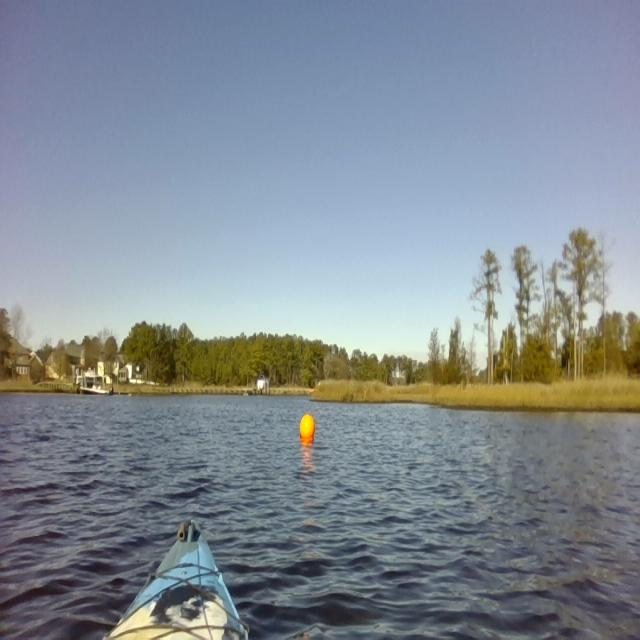Buoy: (295, 405, 319, 450)
